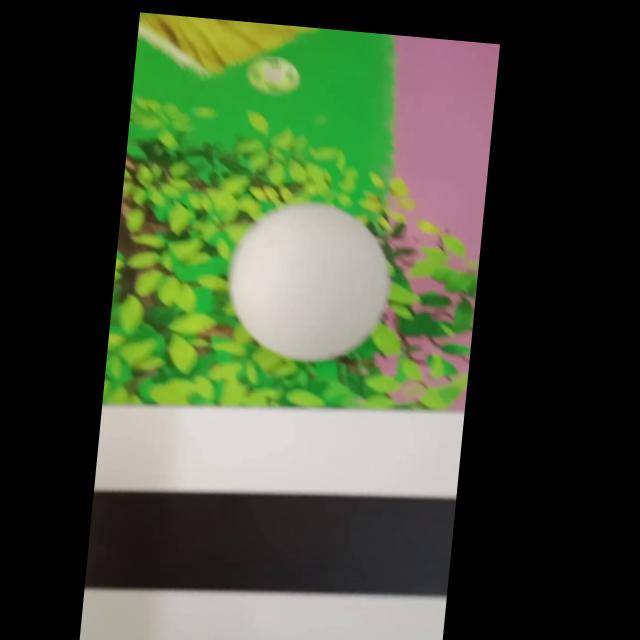white ball: (221, 194, 398, 369)
